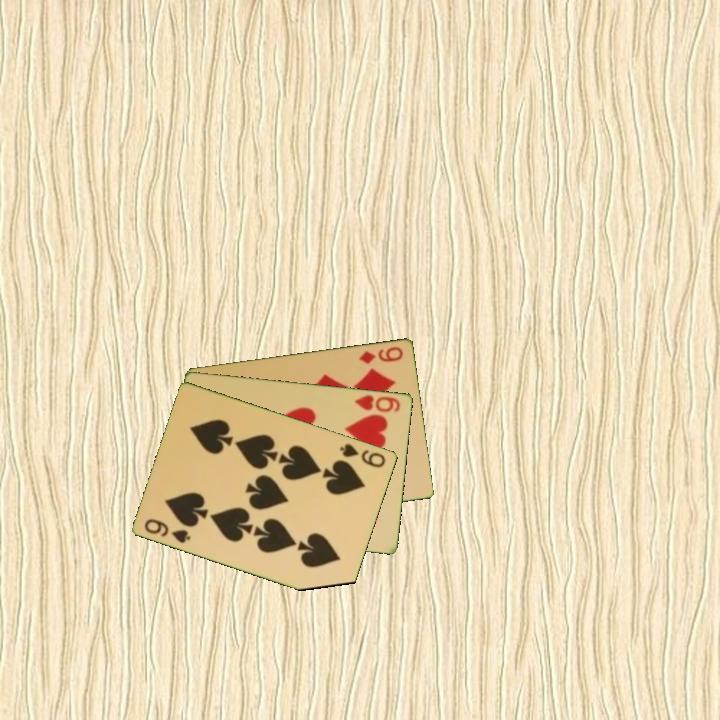6h: (352, 391, 403, 415)
9d: (356, 343, 406, 367)
9s: (141, 515, 194, 546), (337, 440, 389, 470)
